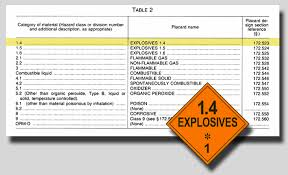Explosive: (169, 86, 248, 165)
